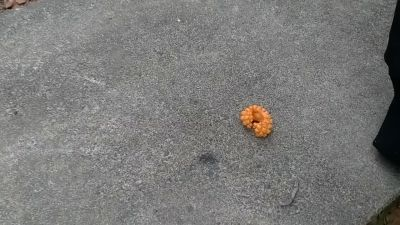eggs: (240, 104, 274, 139)
